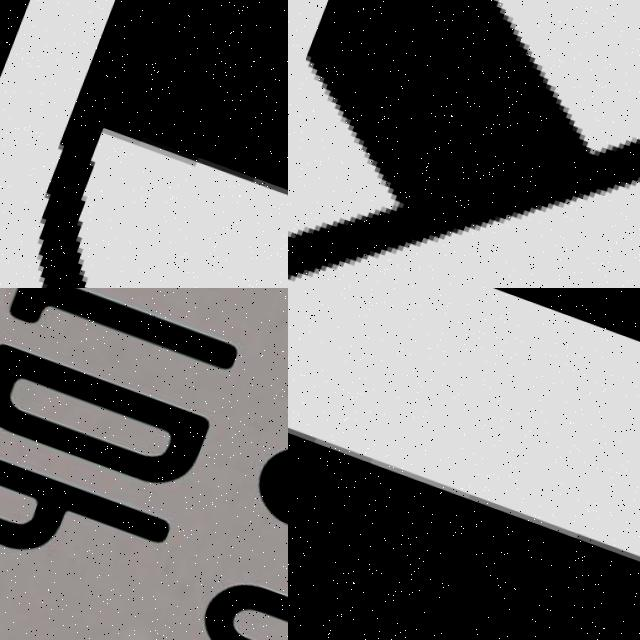D: (0, 333, 223, 494)
I: (288, 383, 640, 640)
P: (0, 438, 182, 599)
R: (0, 0, 288, 288)
T: (2, 288, 259, 389)
Y: (288, 0, 640, 288)
